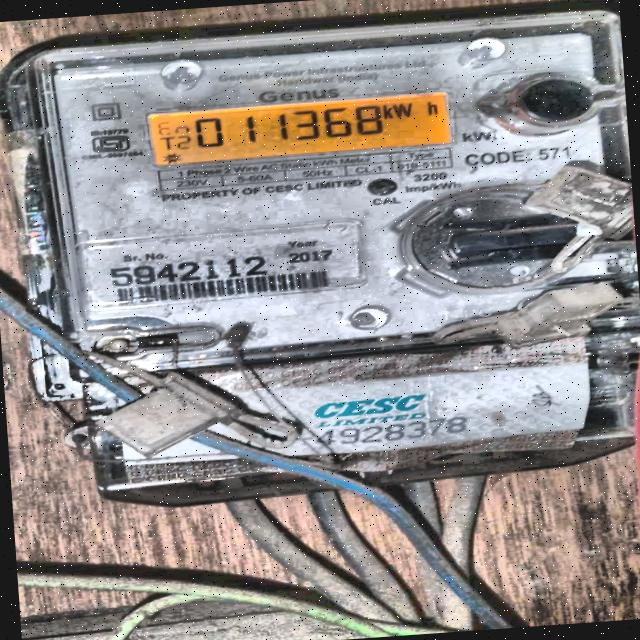Digital: (16, 2, 635, 506)
Reading: (192, 101, 383, 150)
Serial No.: (110, 254, 272, 287)
